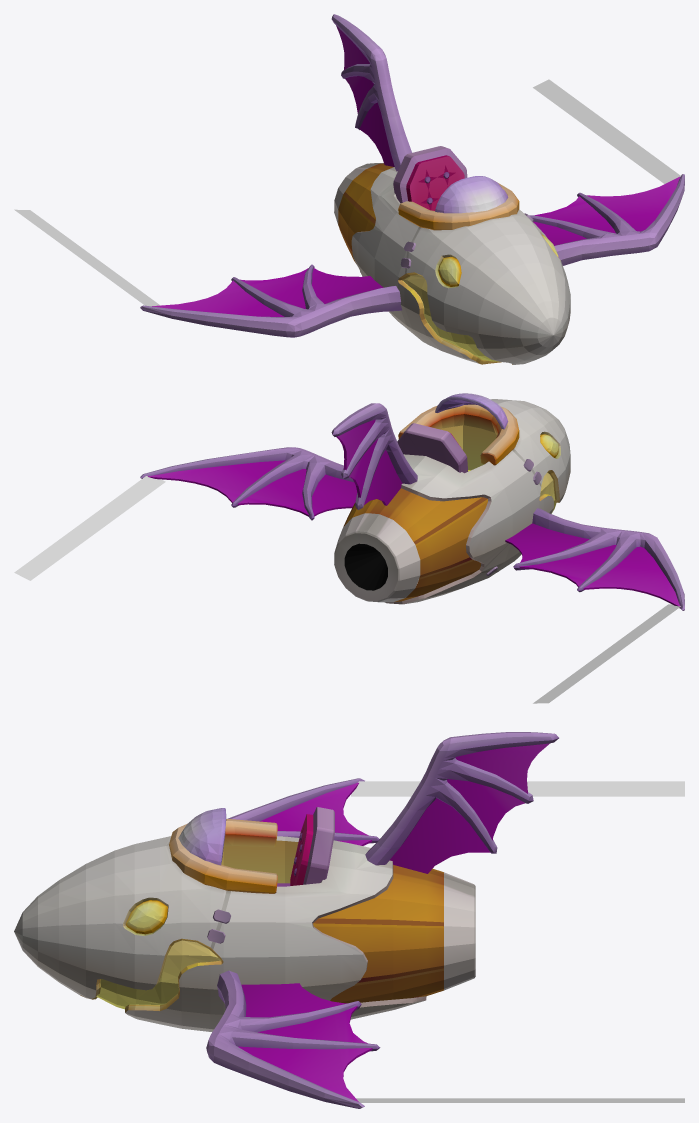
File: WitchAngelaAirplane.glb
3 views of the same model, one above another, from view 1: azimuth 30°, elevation 25°; view 2: azimuth 150°, elevation 25°; view 3: azimuth 270°, elevation 25° (orthographic). The views are drawn at different scales.
Parts seen in each view (by area): view 1: airplane, Trail1, Trail2; view 2: airplane, Trail1, Trail2; view 3: airplane, Trail2, Trail1.
Part boxes in pixels (x1,y1,x2,y2): airplane: (140, 14, 684, 364); Trail1: (533, 79, 680, 183); Trail2: (14, 209, 160, 306); airplane: (140, 393, 684, 610); Trail1: (14, 476, 165, 580); Trail2: (533, 604, 680, 703); airplane: (14, 732, 558, 1108); Trail2: (351, 781, 684, 796); Trail1: (356, 1098, 684, 1102).
Size of the model in its own units: 1.38 by 0.5693 by 1.19.
